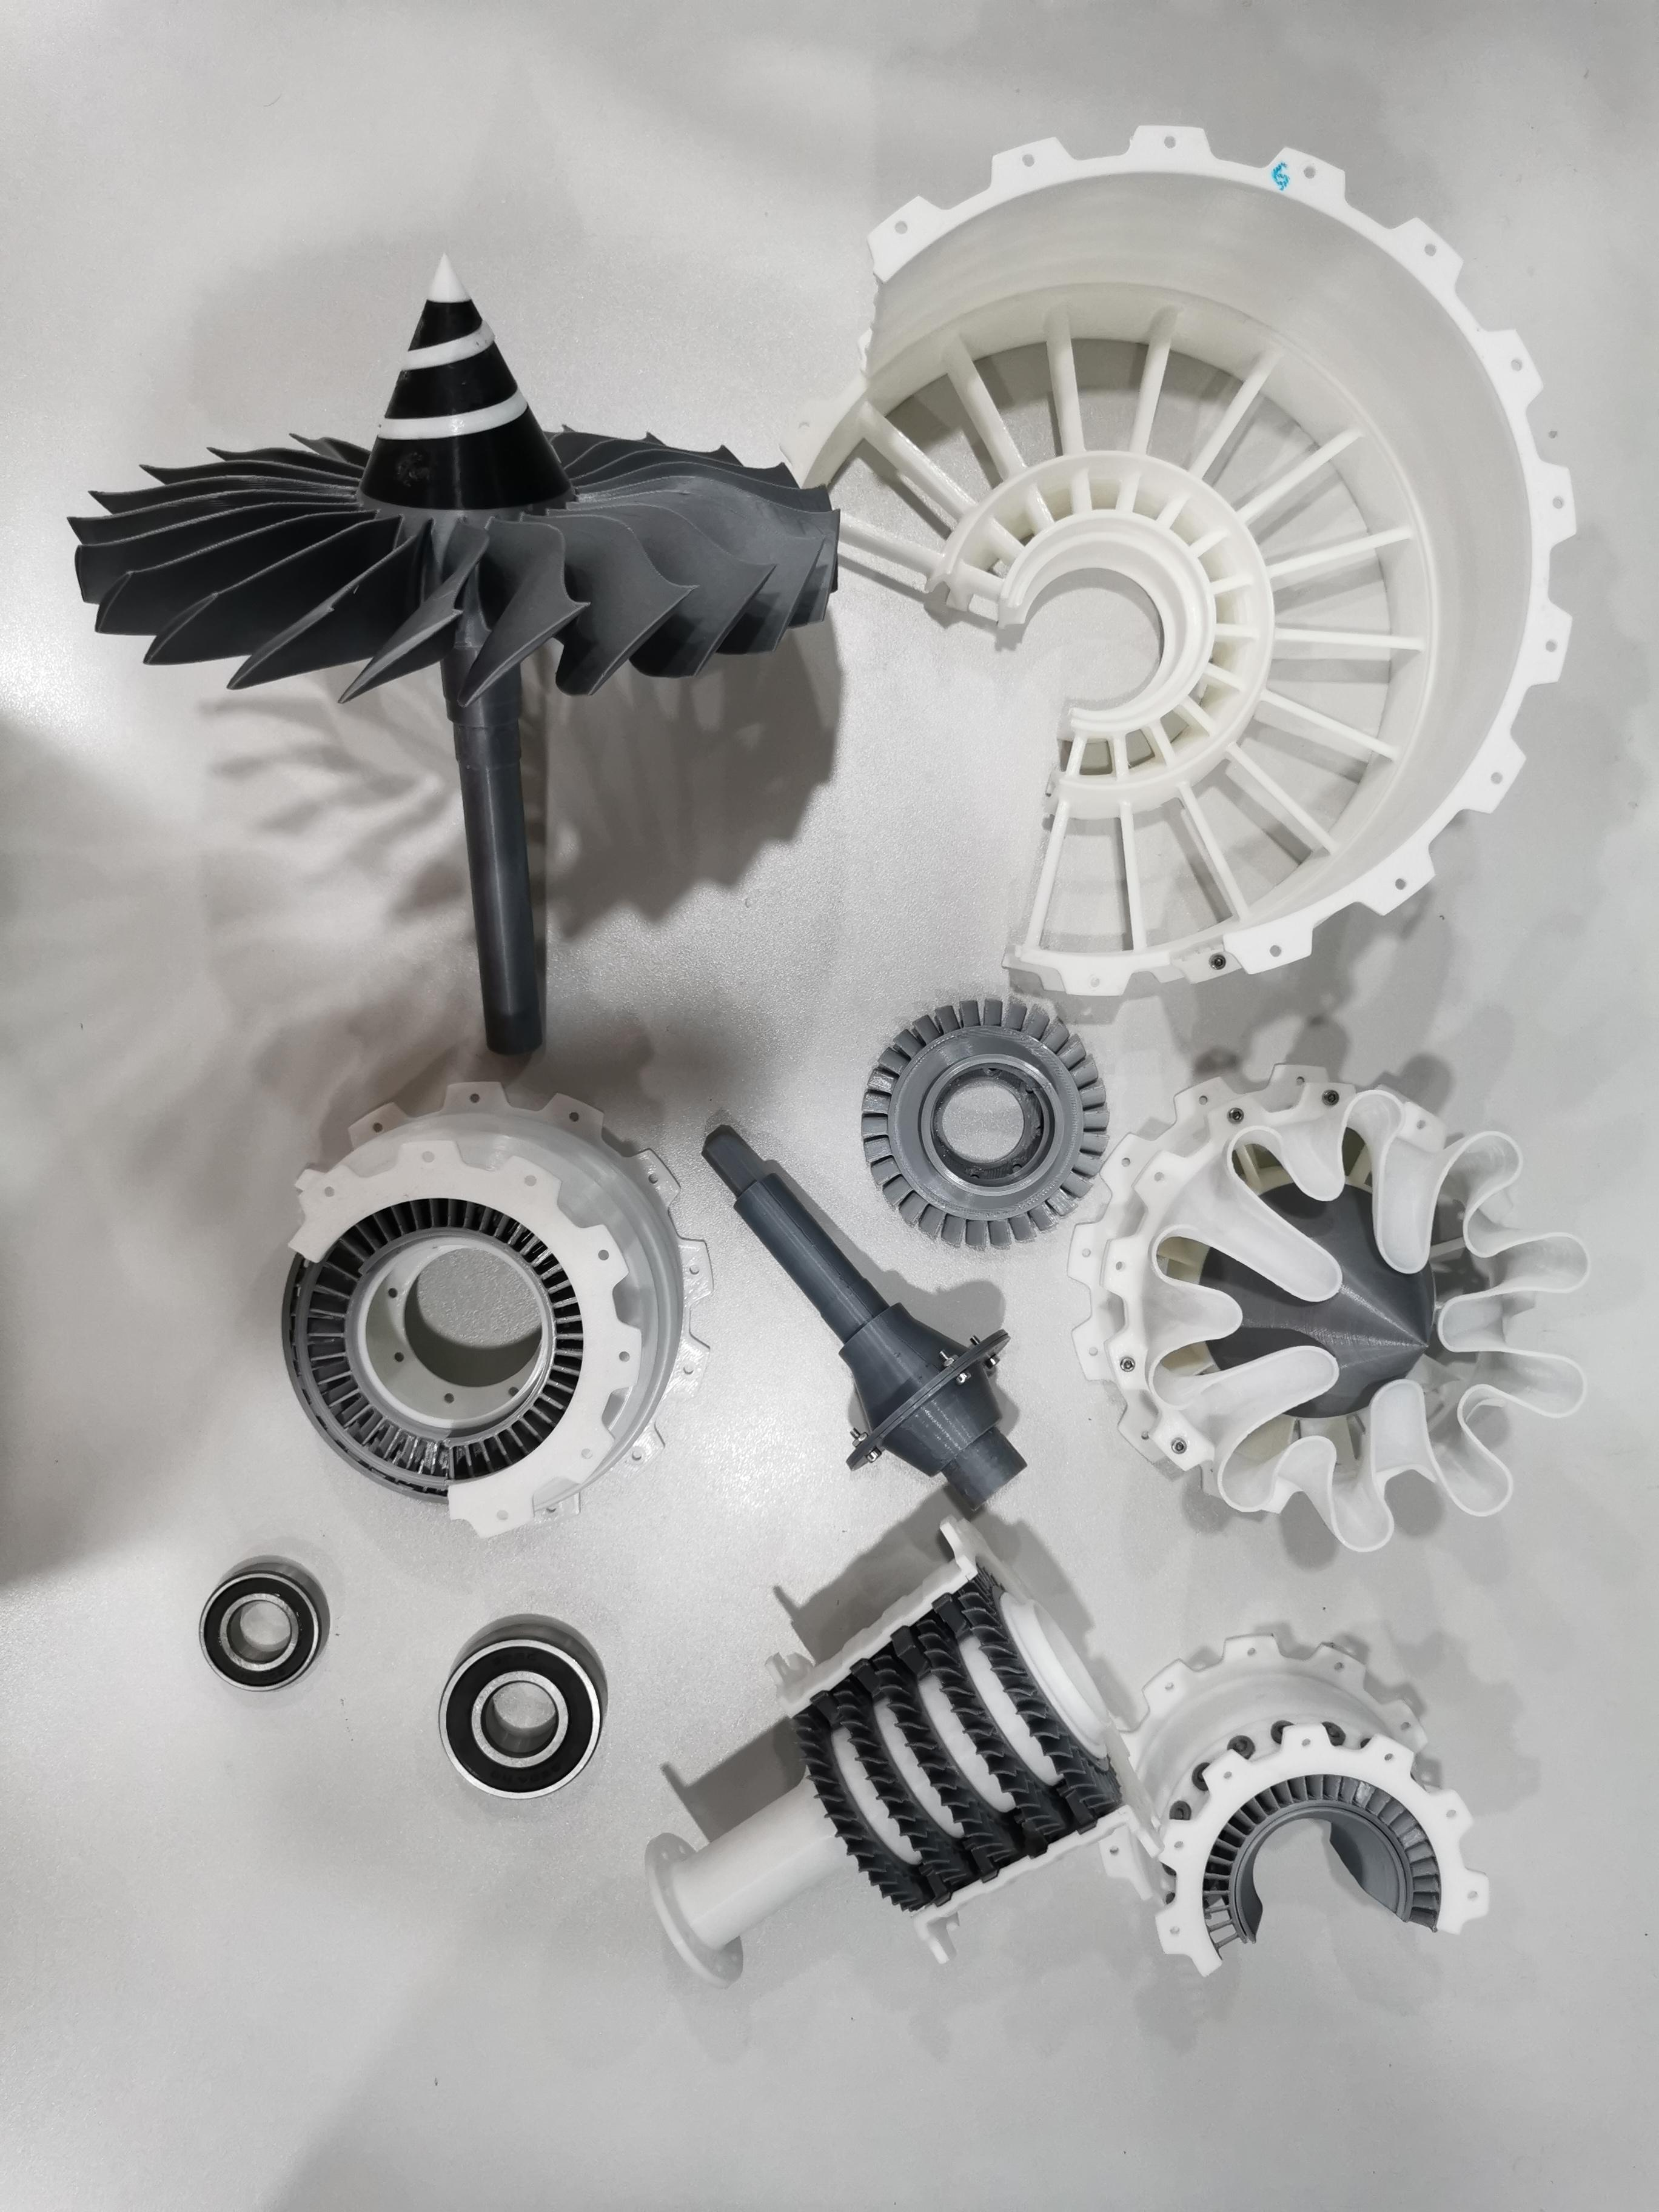Bearing-6003: (178, 1555, 345, 1705)
Bearing-6204: (416, 1602, 641, 1834)
Combustion Section: (1086, 1615, 1495, 1994)
Fan Casing and Support: (763, 118, 1589, 1005)
Fan and Low Pressure Shaft: (54, 235, 847, 1062)
HPT Section: (843, 982, 1129, 1273)
High Pressure Spool: (624, 1514, 1178, 2013)
LPT Section: (253, 1069, 727, 1545)
Low Pressure Spool: (692, 1113, 1030, 1538)
Nozzle Section: (1060, 1049, 1608, 1564)
